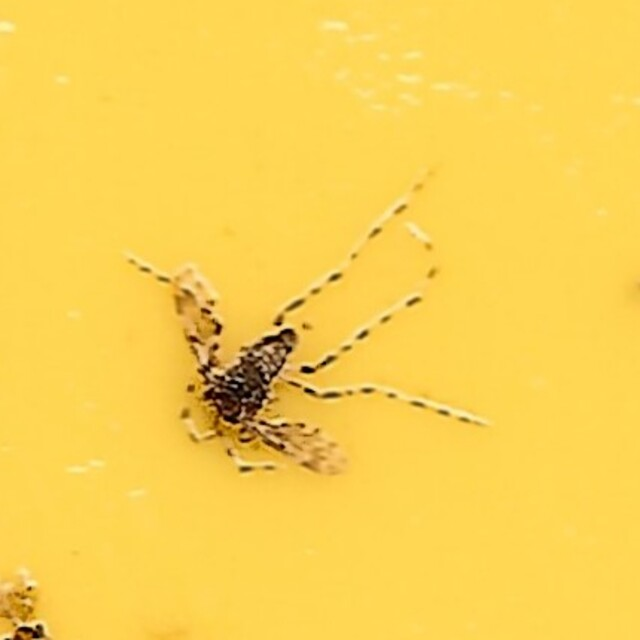Nematocera: (149, 163, 491, 477)
